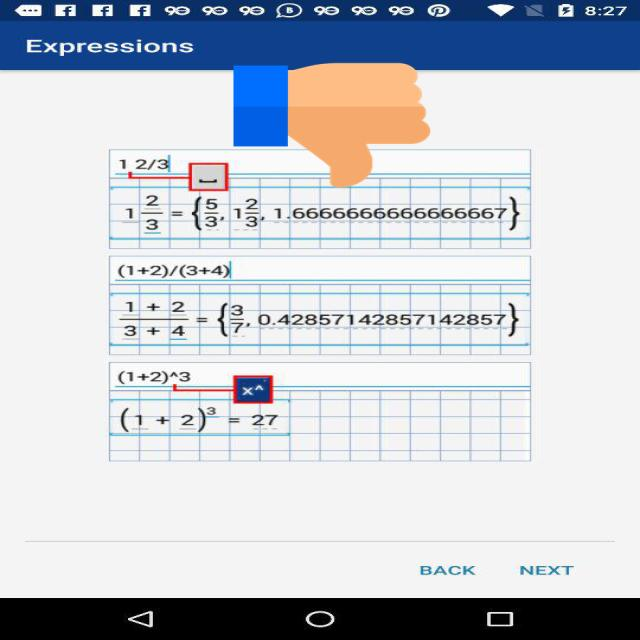obstruction: (234, 60, 430, 191)
